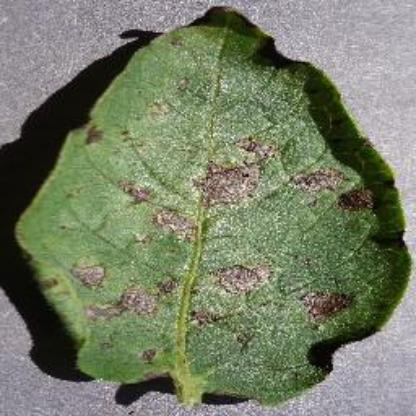Early-Blight: (13, 6, 405, 408)
